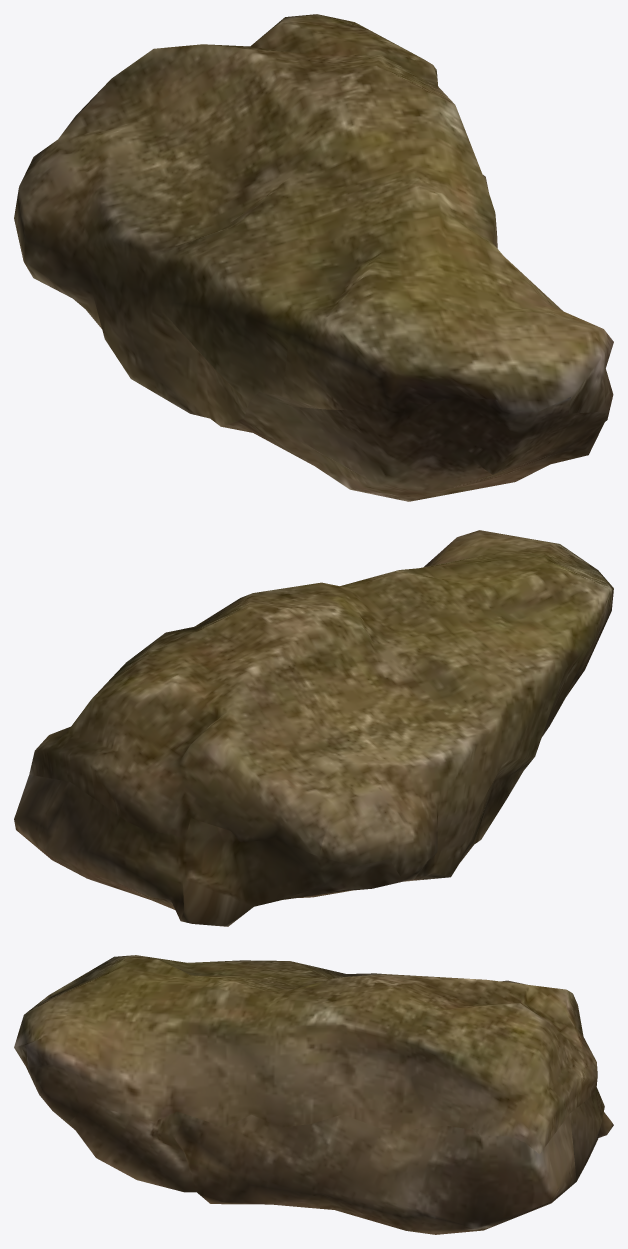
Rendered from mossrocks.glb.
The picture shows the model from 3 angles, top to bottom: view 1: azimuth 30°, elevation 25°; view 2: azimuth 150°, elevation 25°; view 3: azimuth 270°, elevation 25°; orthographic projection. The views are drawn at different scales.
Visible parts, largest first — view 1: lod1; view 2: lod1; view 3: lod1.
Part boxes in pixels (x1,y1,x2,y2): lod1: [14, 14, 613, 501]; lod1: [14, 530, 613, 926]; lod1: [14, 955, 613, 1234].
Size of the model in its own units: 0.9 by 0.5961 by 1.49.
Materials: 1 (1 with a texture image).
